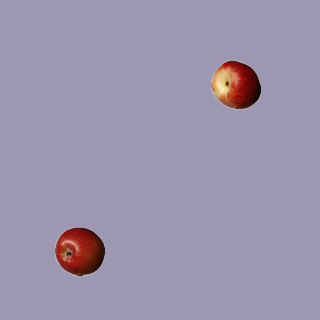Apple Braeburn: (54, 226, 104, 276)
Nectarine: (210, 59, 260, 109)
